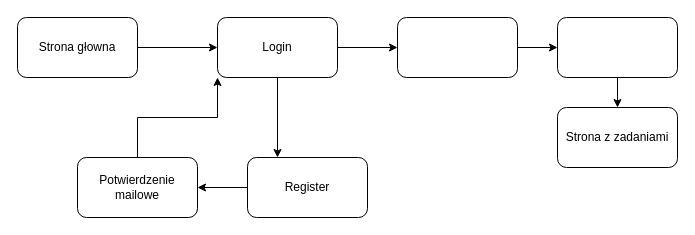
Some shapes in this 695 by 235 pixel diagram are drawn without their labels. The box of each missing label's shape, as (x1, y1, x2, y2) in pixels:
Strona z projektami zespołu: (556, 16, 678, 78)
Strona z zespołami do których należysz: (396, 16, 518, 78)
